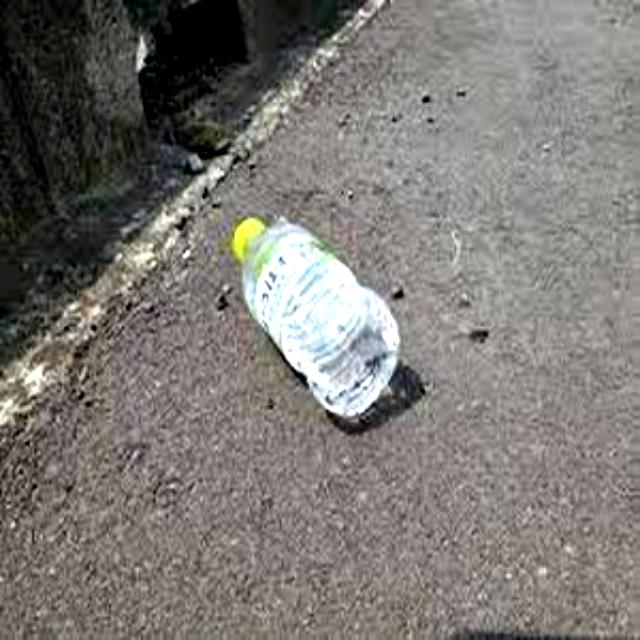Plastic: (227, 210, 401, 424)
